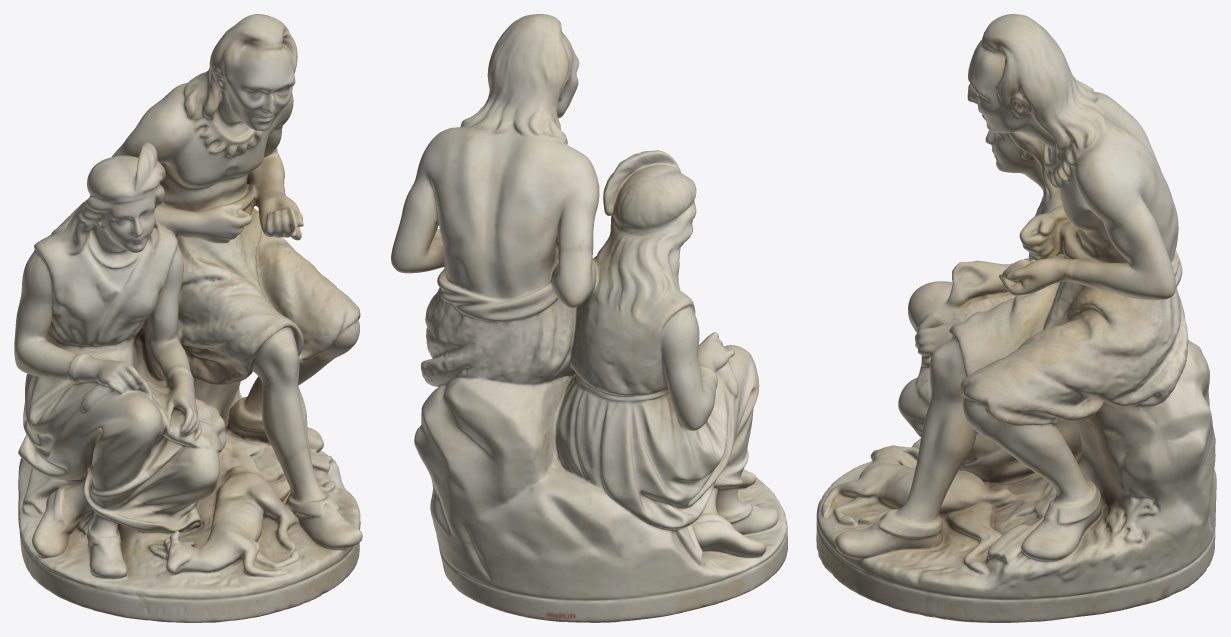
3 views of the same model, side by side, from view 1: azimuth 30°, elevation 25°; view 2: azimuth 150°, elevation 25°; view 3: azimuth 270°, elevation 25° (orthographic). The views are drawn at different scales.
Bounding box in the file's own units: 0.3494 × 0.5427 × 0.3456.
Materials: 1 (1 with a texture image).
